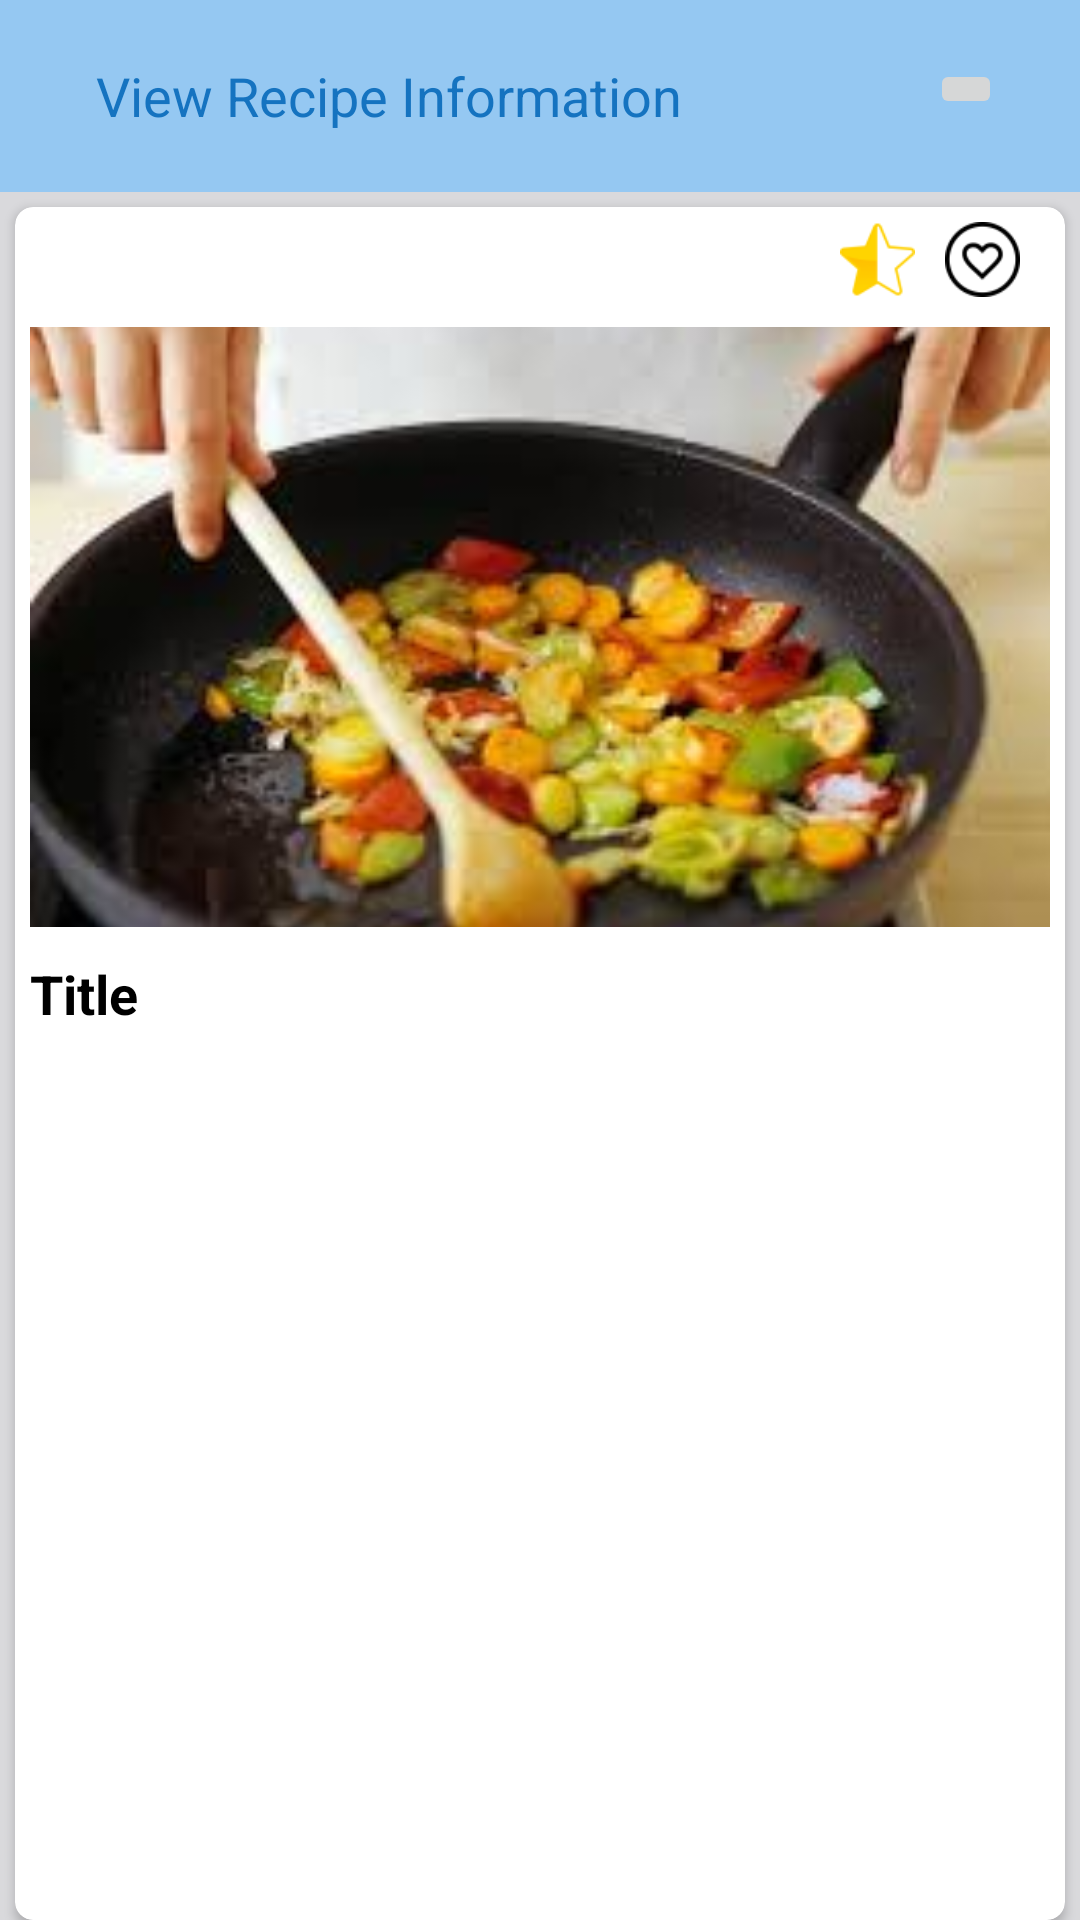

Named icons in this screenshot (1080 x 1920) and their bounding boxes, [x1=x1, y1=y1, x2=x2, y2=y2]:
like heart: [x1=945, y1=222, x2=1020, y2=297]
star: [x1=840, y1=223, x2=915, y2=296]
